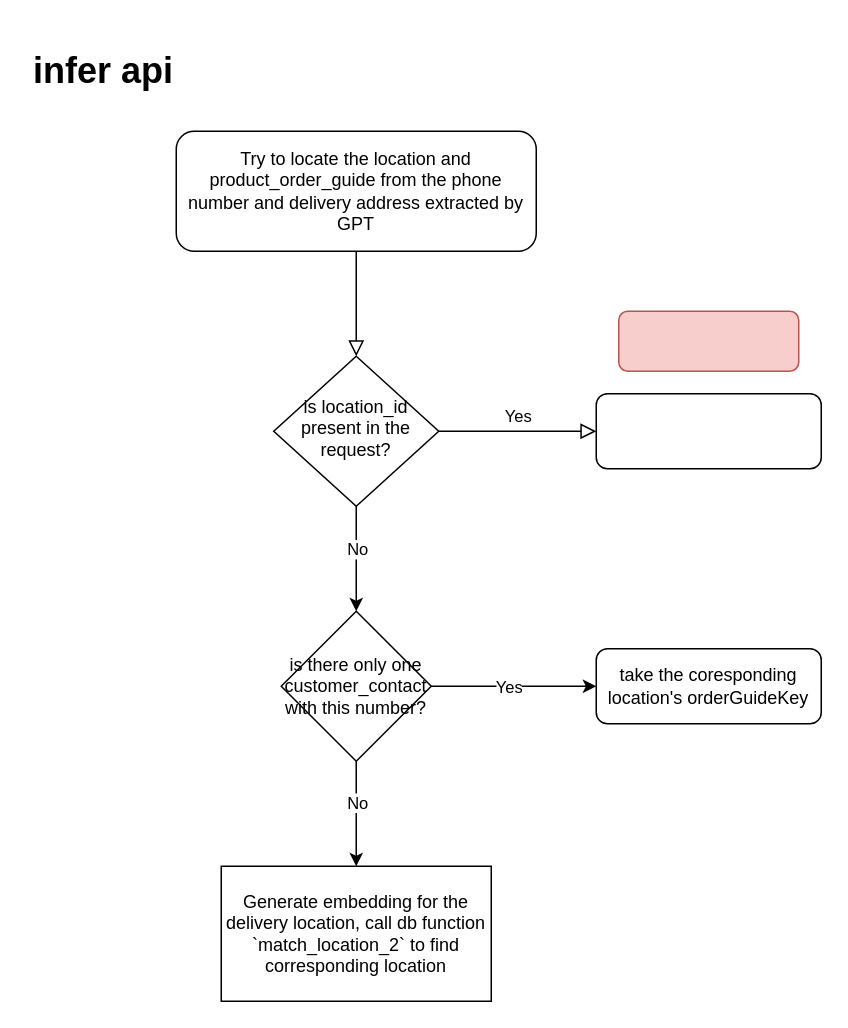
This 848x1028 diagram has some shape labels left out. The centre of each missing label's shape, as x and y in pixels:
"query db to get the orderGuideKey and other info from location_id" goes at [708,430].
"This means that user has chosen a location" goes at [708,340].
